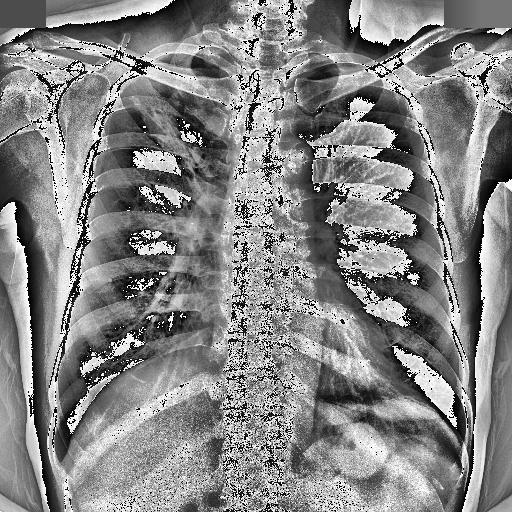0- Aortic enlargement: (263, 138, 314, 186)
13- Pulmonary fibrosis: (131, 91, 215, 216), (126, 91, 206, 193), (136, 95, 200, 186)
6- Infiltration: (136, 95, 200, 186)
